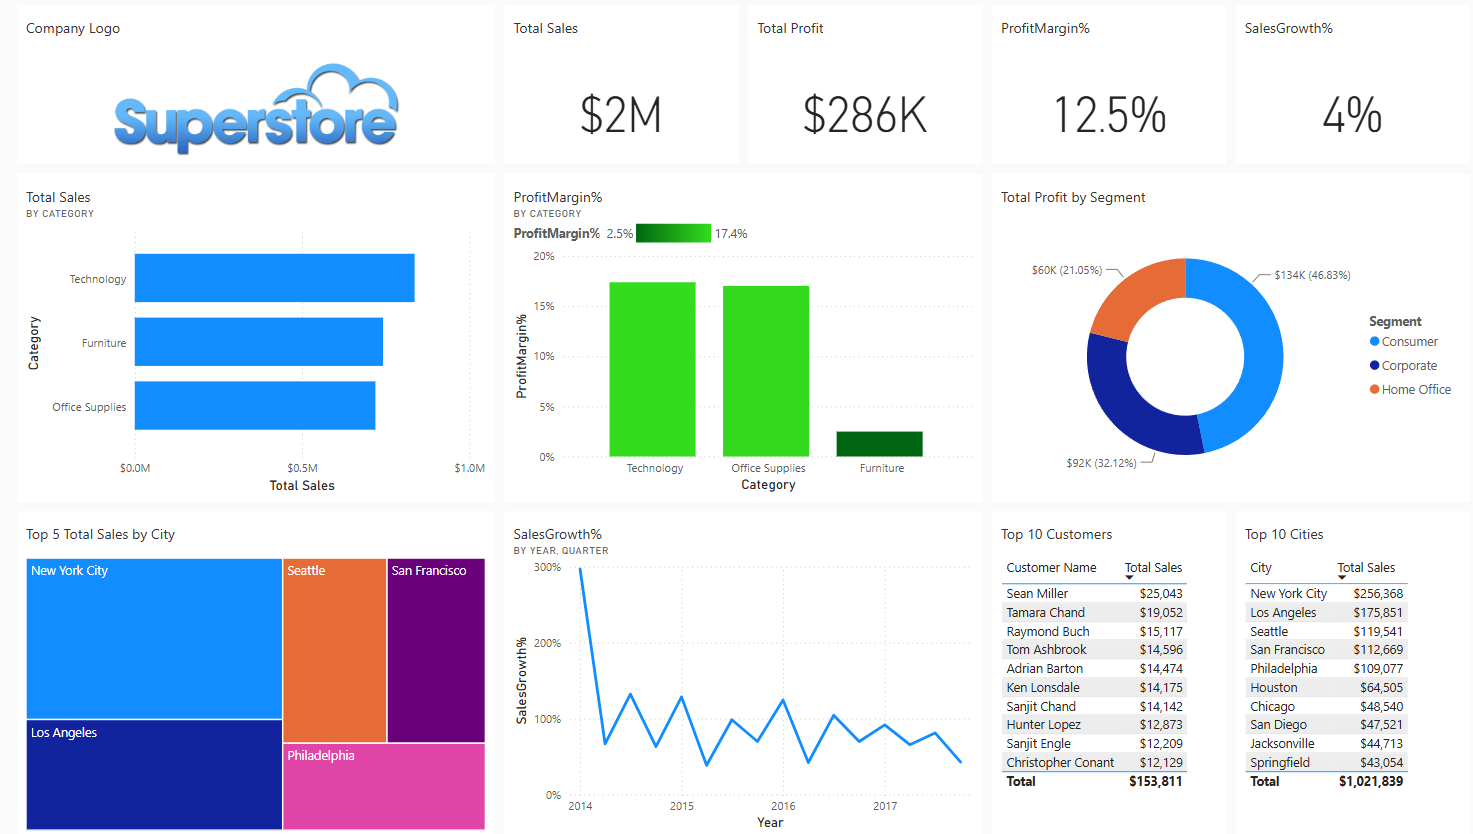

This screenshot's page, from the dashboard's own definition file:
{"tool":"powerbi","page":{"name":"Page 1","canvas":[1280,720],"ordinal":0},"visuals":[{"type":"shape","box":[475.7,18.3,804.6,161.4],"z":0},{"type":"barChart","fields":{"Y":["Sample - Superstore.Sales"],"Category":["Sample - Superstore.Category"]},"box":[0,195.7,402.3,264.1],"z":1000},{"type":"tableEx","title":"Top 10 Cities","fields":{"Values":["Sample - Superstore.City","Sample - Superstore.Sales"]},"box":[883.8,427.5,191.2,292.5],"z":2000},{"type":"image","box":[0,0,469.3,196.2],"z":3000},{"type":"tableEx","title":"Top 10 Customers","fields":{"Values":["Sample - Superstore.Customer Name","Sample - Superstore.Sales"]},"box":[1070,427.5,210,292.5],"z":4000},{"type":"card","fields":{"Values":["Sample - Superstore.Sales"]},"box":[500.1,1.2,188.3,195.7],"z":5000},{"type":"card","fields":{"Values":["Sample - Superstore.Profit"]},"box":[700.7,0,177.3,195.7],"z":6000},{"type":"columnChart","fields":{"Category":["Sample - Superstore.Category"],"Y":["Sample - Superstore.ProfitMargin%"]},"box":[402.3,195.7,412.1,264.1],"z":7000},{"type":"lineChart","fields":{"Y":["Sample - Superstore.SalesGrowth%"],"Category":["Sample - Superstore.Order Date.Variation.Date Hierarchy.Year","Sample - Superstore.Order Date.Variation.Date Hierarchy.Quarter"]},"box":[0,459.8,390.1,260.5],"z":8000},{"type":"card","fields":{"Values":["Sample - Superstore.ProfitMargin%"]},"box":[908.6,17.1,178.5,161.4],"z":9000},{"type":"treemap","title":"Top 5 Total Sales by City","fields":{"Values":["Sample - Superstore.Sales"],"Group":["Sample - Superstore.City"]},"box":[856.3,196.2,424,231.9],"z":10000},{"type":"donutChart","title":"Total Profit by Segment","fields":{"Y":["Sample - Superstore.Profit"],"Series":["Sample - Superstore.Segment"]},"box":[389.7,459.7,466.6,260.7],"z":11000},{"type":"card","fields":{"Values":["Sample - Superstore.SalesGrowth%"]},"box":[1101.8,17.1,178.5,161.4],"z":12000}]}

Visuals, with their boxes in screenshot pixels (x1, y1, x2, y2), scaled from the page's 1280x720 canvas onto the 1473x834 screenshot:
shape: <bbox>547, 21, 1472, 208</bbox>
barChart - Sample - Superstore.Sales x Sample - Superstore.Category: <bbox>0, 227, 463, 533</bbox>
"Top 10 Cities" tableEx: <bbox>1017, 495, 1237, 833</bbox>
image: <bbox>0, 0, 540, 227</bbox>
"Top 10 Customers" tableEx: <bbox>1231, 495, 1472, 833</bbox>
card - Sample - Superstore.Sales: <bbox>576, 1, 792, 228</bbox>
card - Sample - Superstore.Profit: <bbox>806, 0, 1010, 227</bbox>
columnChart - Sample - Superstore.Category x Sample - Superstore.ProfitMargin%: <bbox>463, 227, 937, 533</bbox>
lineChart - Sample - Superstore.SalesGrowth% x Sample - Superstore.Order Date.Variation.Date Hierarchy.Year: <bbox>0, 533, 449, 833</bbox>
card - Sample - Superstore.ProfitMargin%: <bbox>1046, 20, 1251, 207</bbox>
"Top 5 Total Sales by City" treemap: <bbox>985, 227, 1472, 496</bbox>
"Total Profit by Segment" donutChart: <bbox>448, 532, 985, 833</bbox>
card - Sample - Superstore.SalesGrowth%: <bbox>1268, 20, 1472, 207</bbox>
